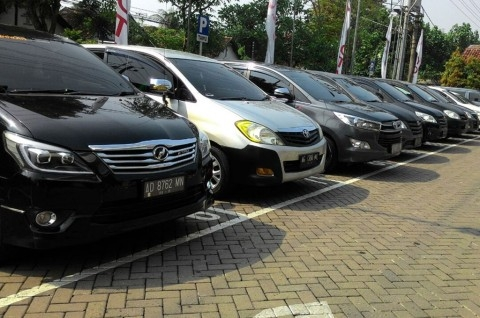plate: (145, 175, 185, 195), (300, 153, 319, 162)
